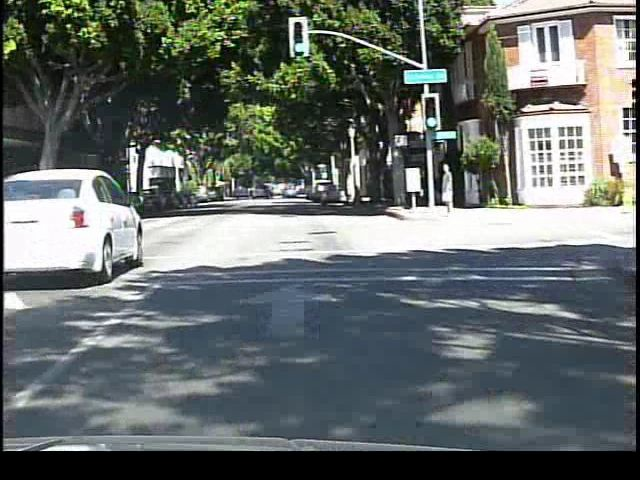person: (437, 158, 458, 219)
